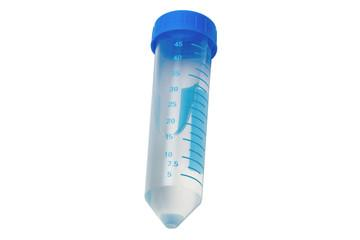Test tube: (142, 10, 221, 226)
